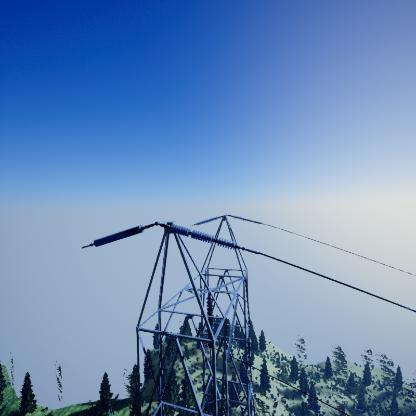insulator: (170, 223, 239, 250), (94, 224, 145, 247)
